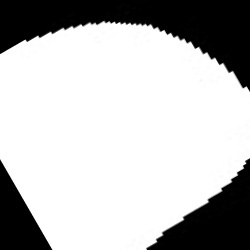spot: (1, 24, 248, 247)
